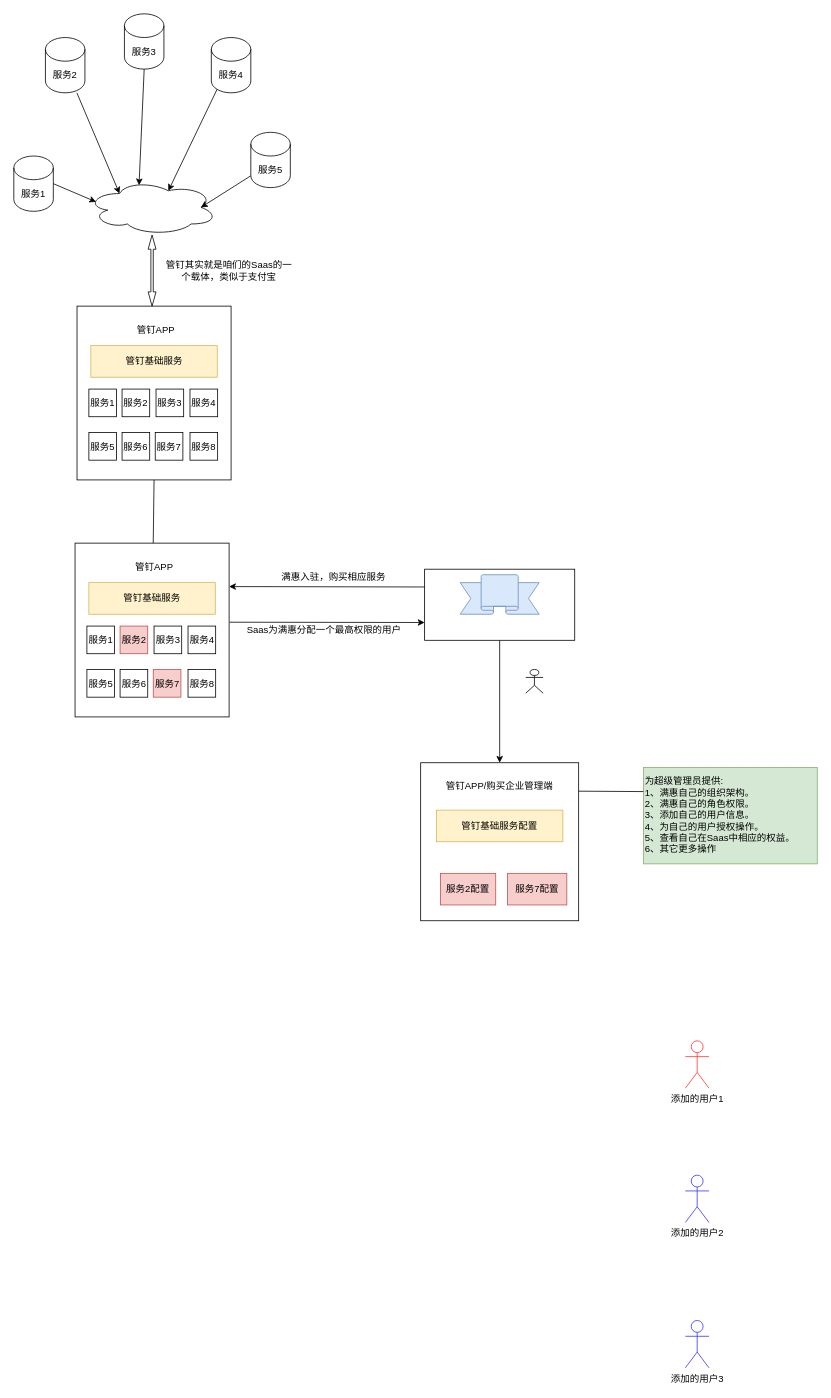
Some shapes in this 831 by 1398 pixel diagram are drawn without their labels. The centre of each missing label's shape, as x and y in pixels:
Saas: pixel 151 207
满惠公司(或其它): pixel 499 594
满惠超级管理员: pixel 534 681
